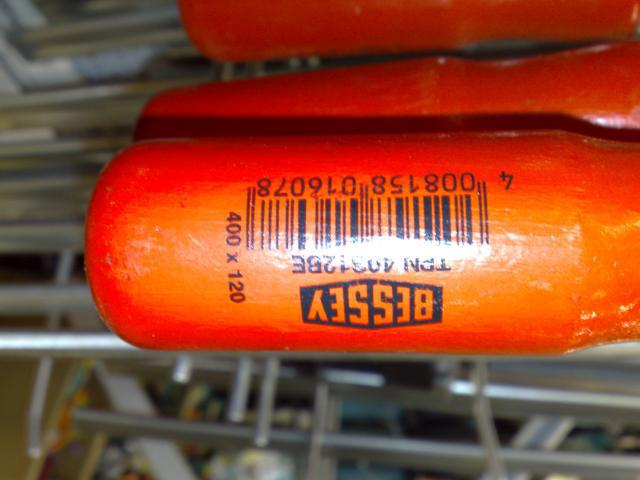Barkod: (245, 193, 488, 247)
